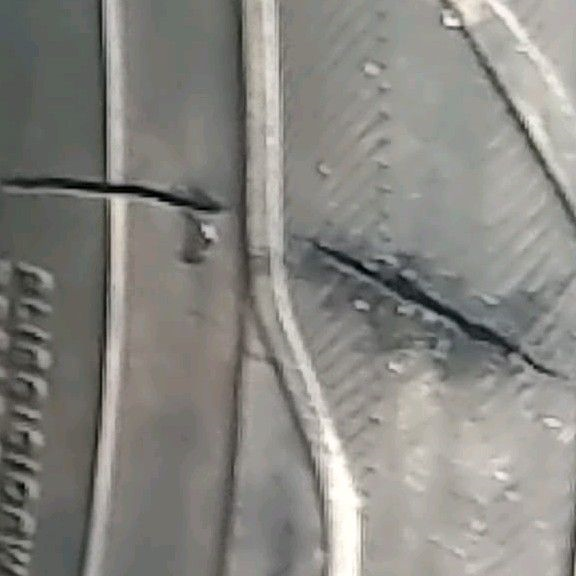cut: (298, 238, 563, 382), (5, 176, 230, 217)
